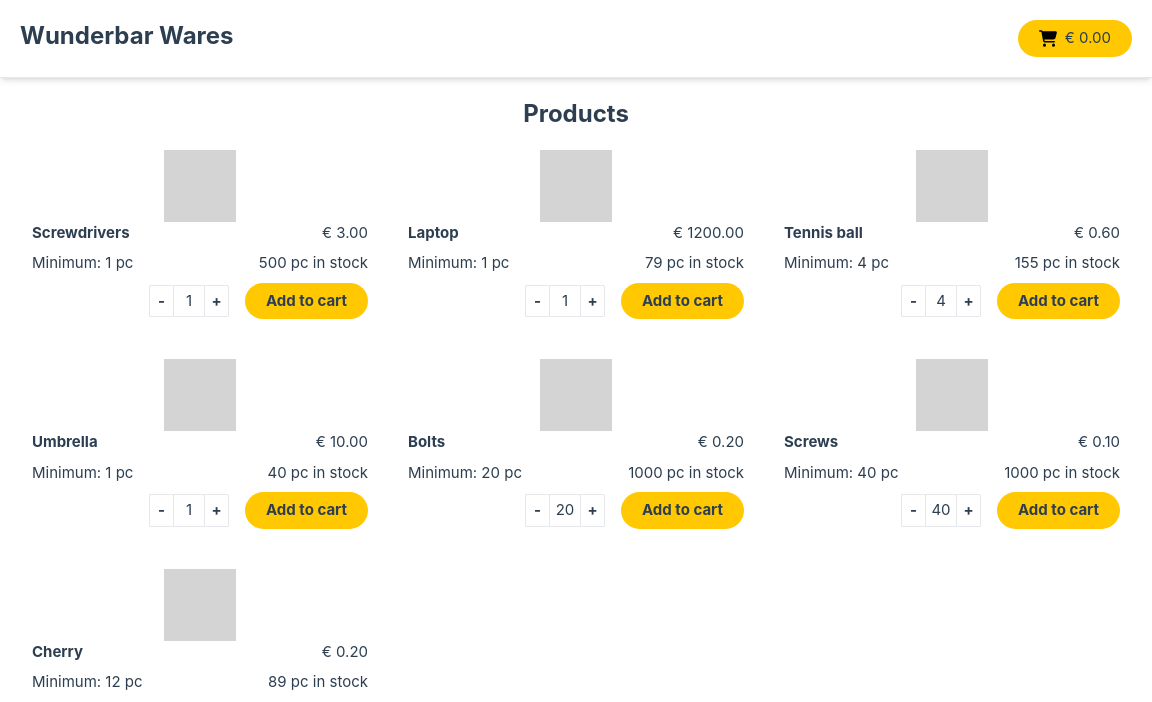
Test: Products › adds product to cart
The width and height of the screenshot is (1152, 702).
Click the button "Add to cart" below "500 pc in stock" at (307, 302), box 245,283 -> 368,320
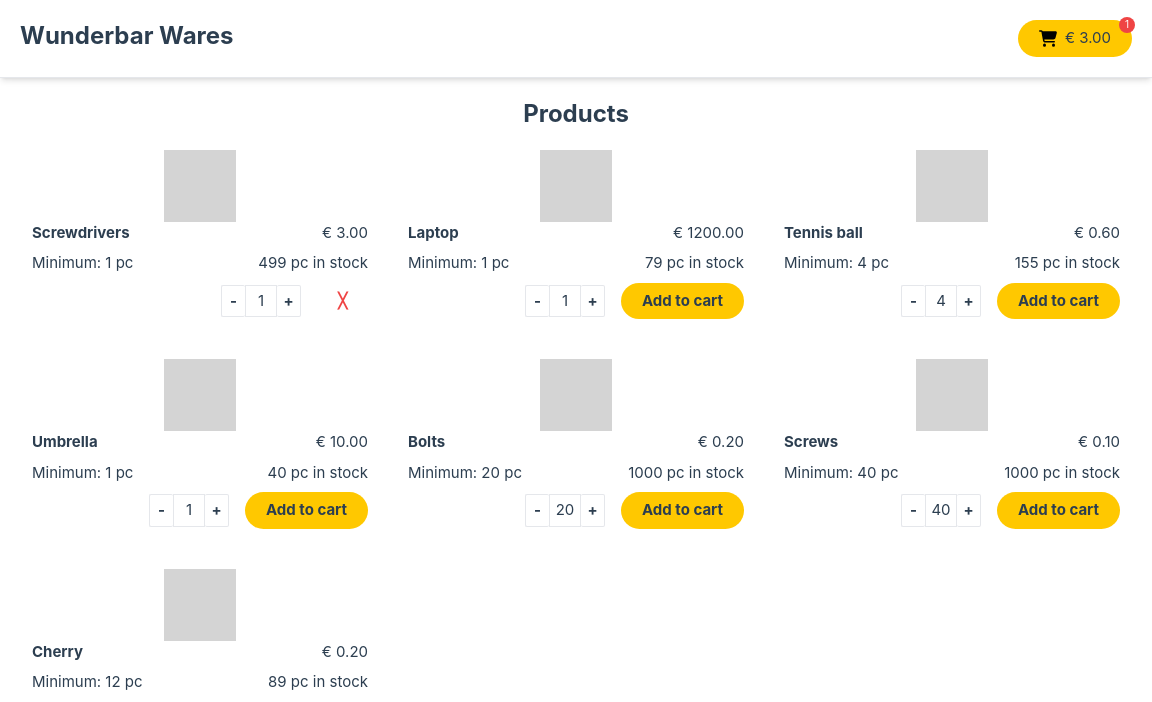
Expected: the link with class "global-cart-button" is shown, 1018,20 -> 1132,57
Now the text "1" is shown, box 1119,17 -> 1135,33
Click the button "Add to cart" below "79 pc in stock" at (683, 302), box 621,283 -> 744,320
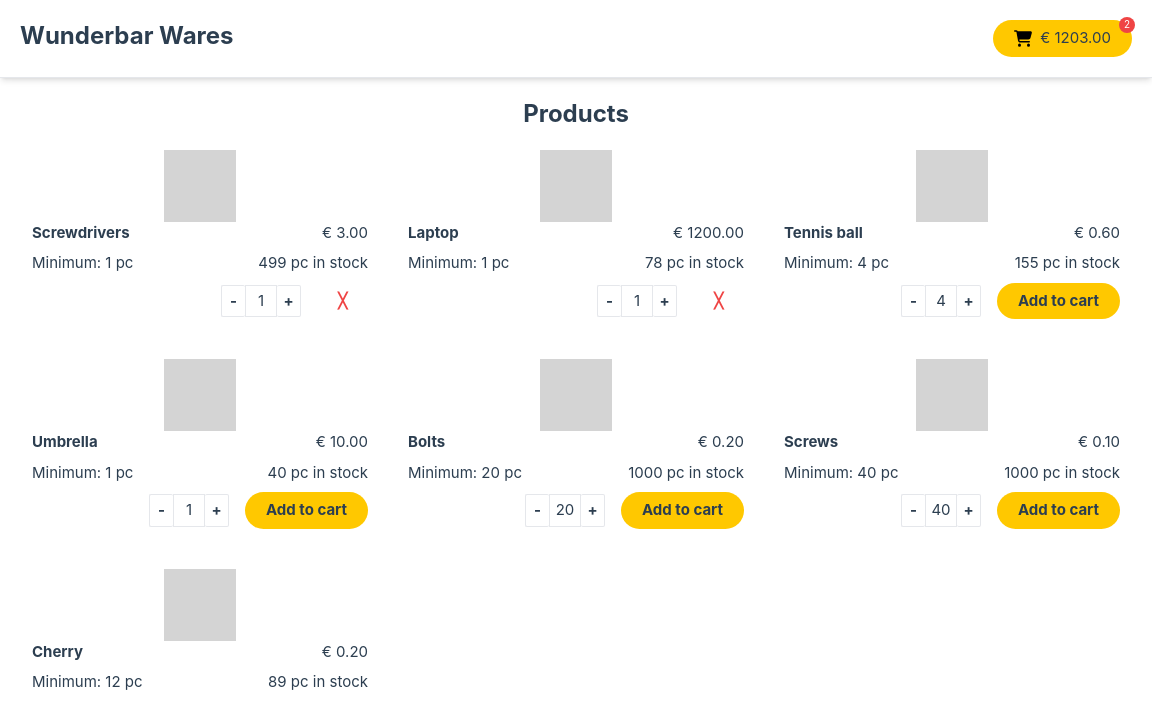
Now the text "2" is shown, box 1119,17 -> 1135,33
